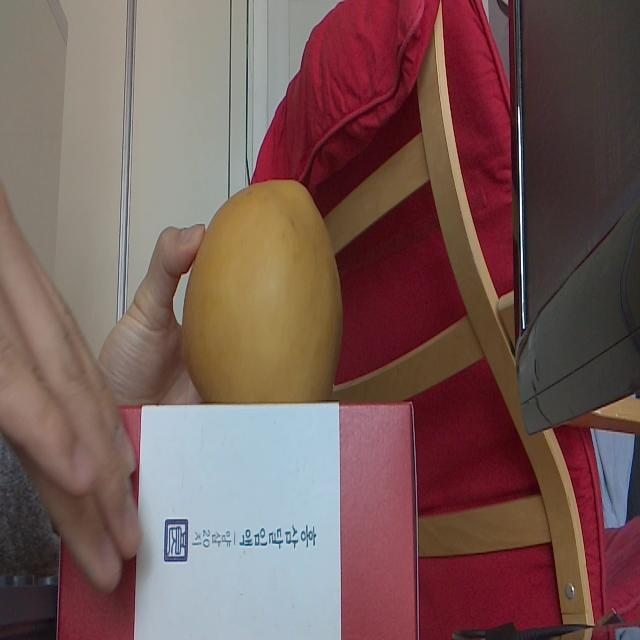pear: (180, 177, 344, 403)
